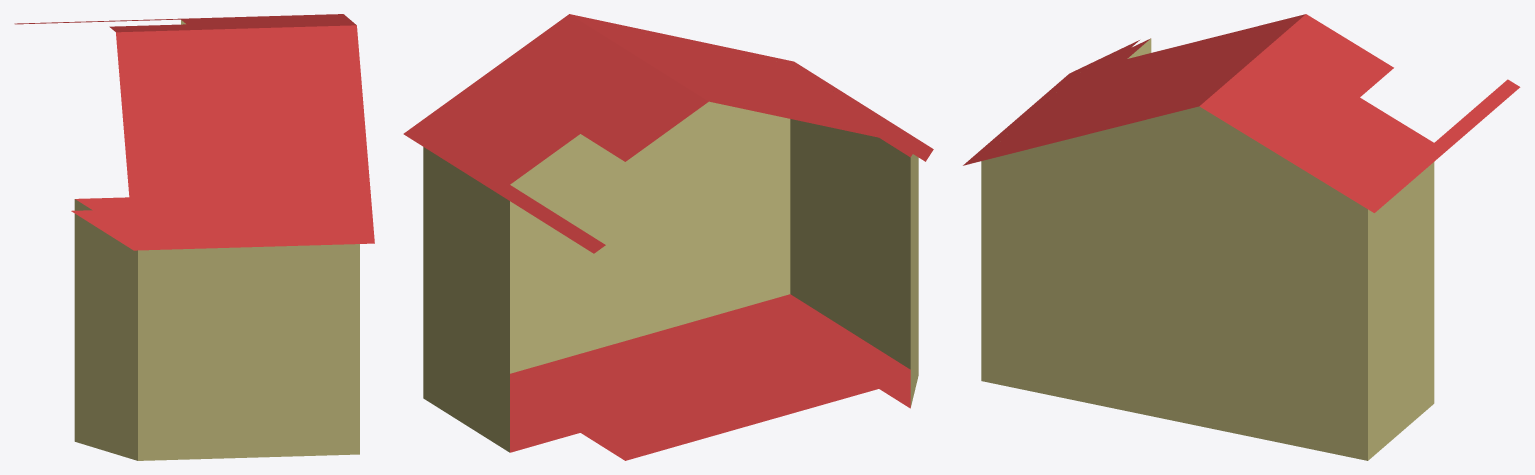
3 renders of one model, left to right at view 1: azimuth 30°, elevation 25°; view 2: azimuth 150°, elevation 25°; view 3: azimuth 270°, elevation 25°, orthographic. The views are drawn at different scales.
Bounding box in the file's own units: 15.9 × 19.62 × 12.67.
